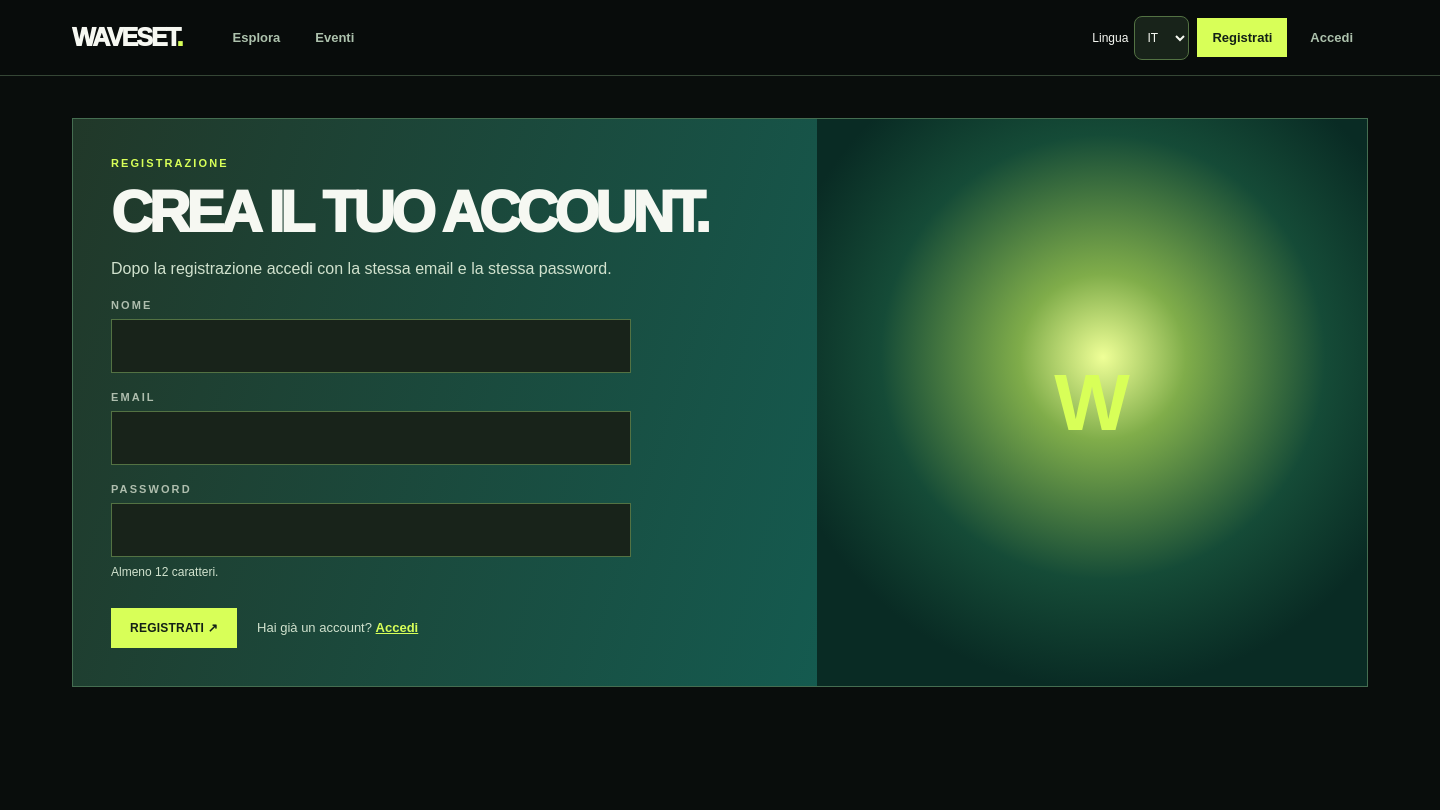
Scenario: schermata di registrazione › 400 con errori per campo: ogni messaggio sotto il proprio campo
Expected: the heading "Crea il tuo account." is shown, [111,184,779,242]
Type "A" into the field labelled "Nome" at (371, 346), box [133,320,609,372]
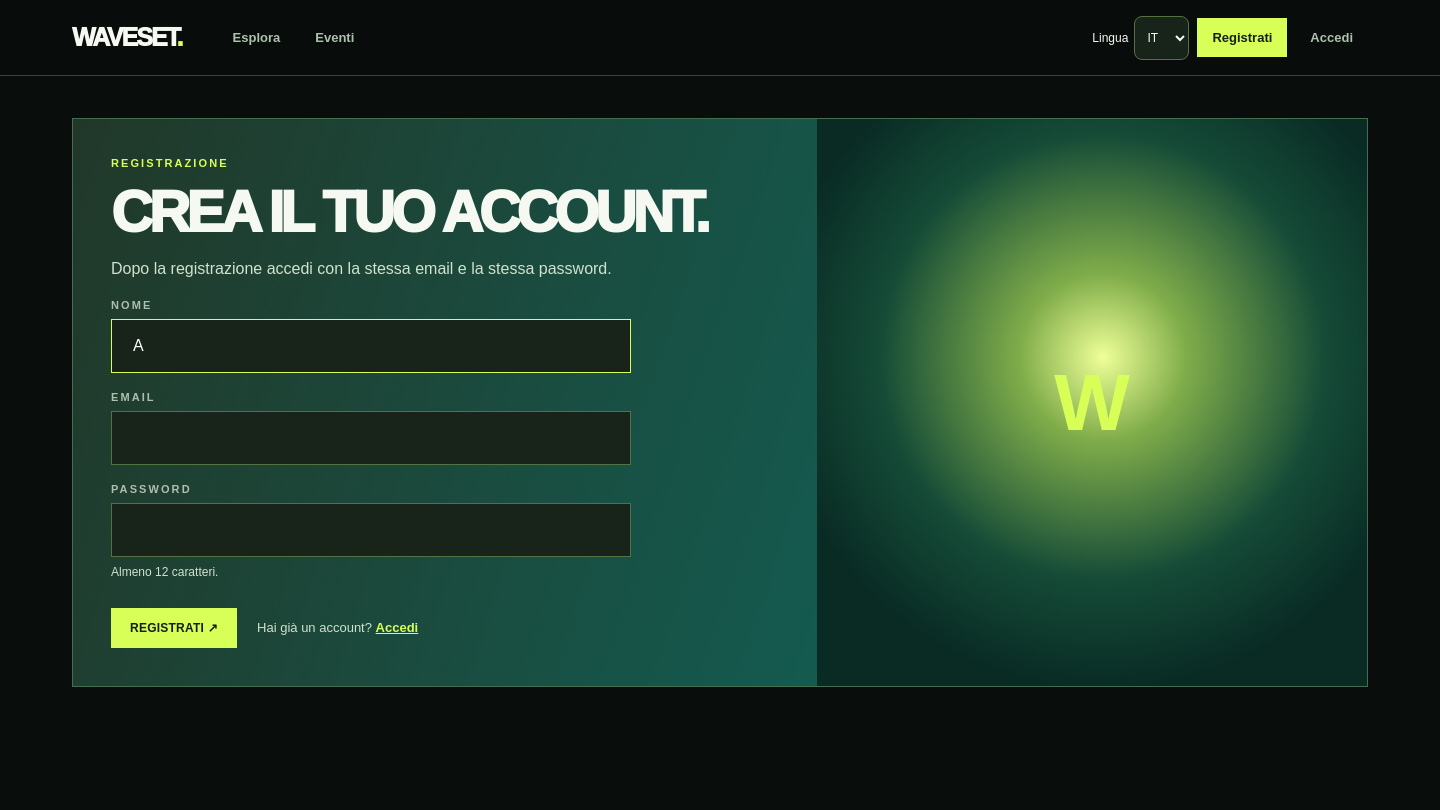
Type "x" into the field labelled "Email" at (371, 438), box [133,412,609,464]
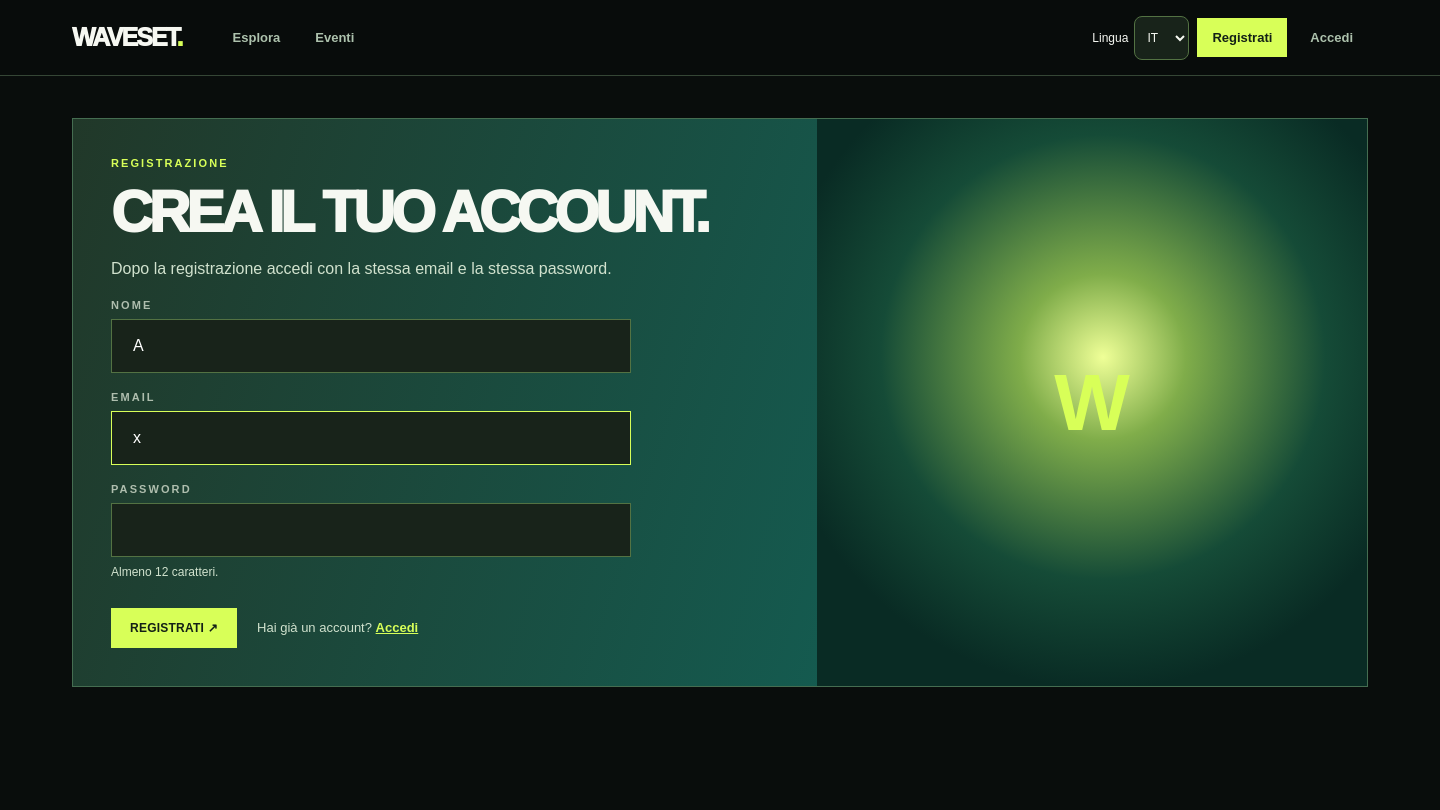
Type "corta" into the password field labelled "Password" at (371, 530), box [133,504,609,556]
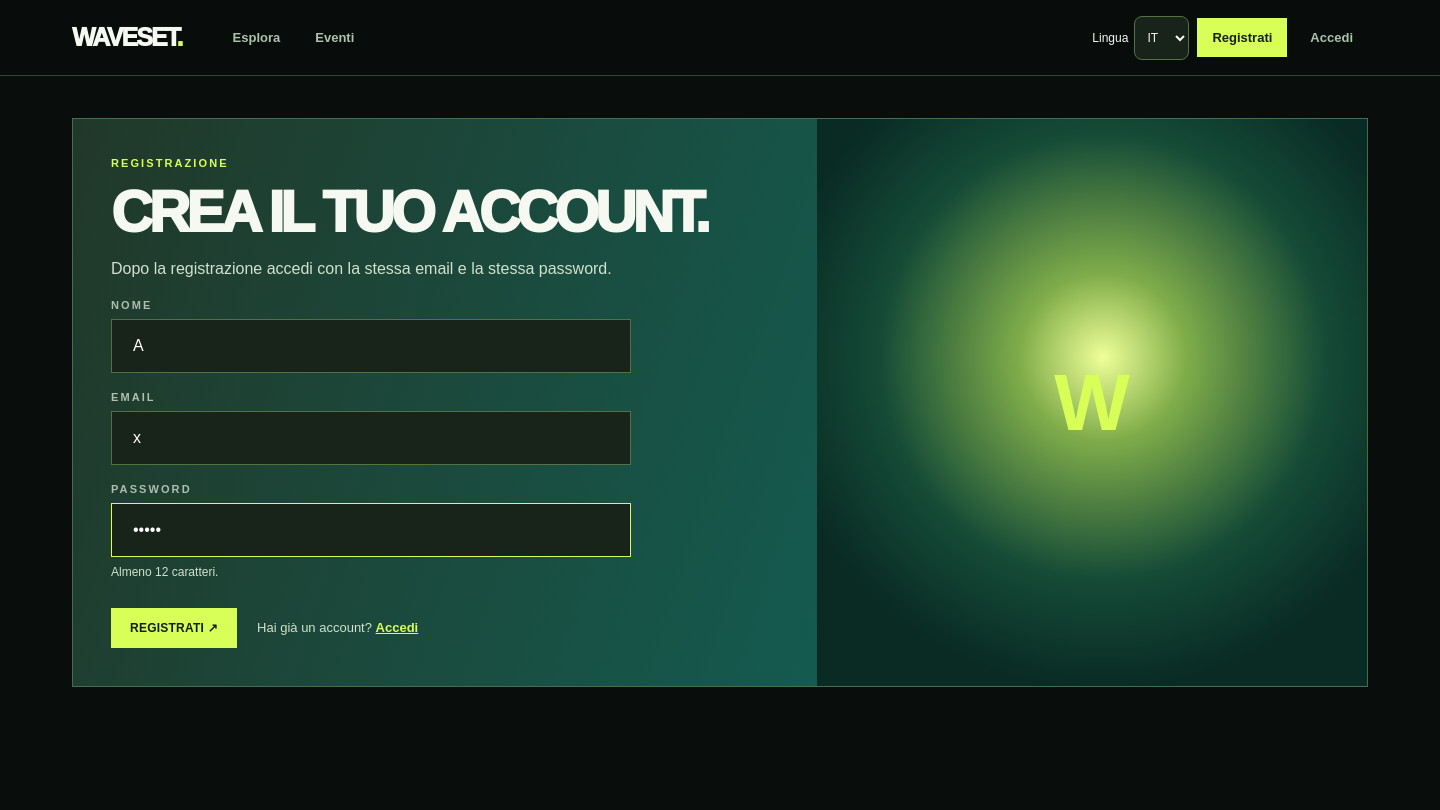
Click the button "Registrati ↗" at (174, 628), box [111,608,237,648]
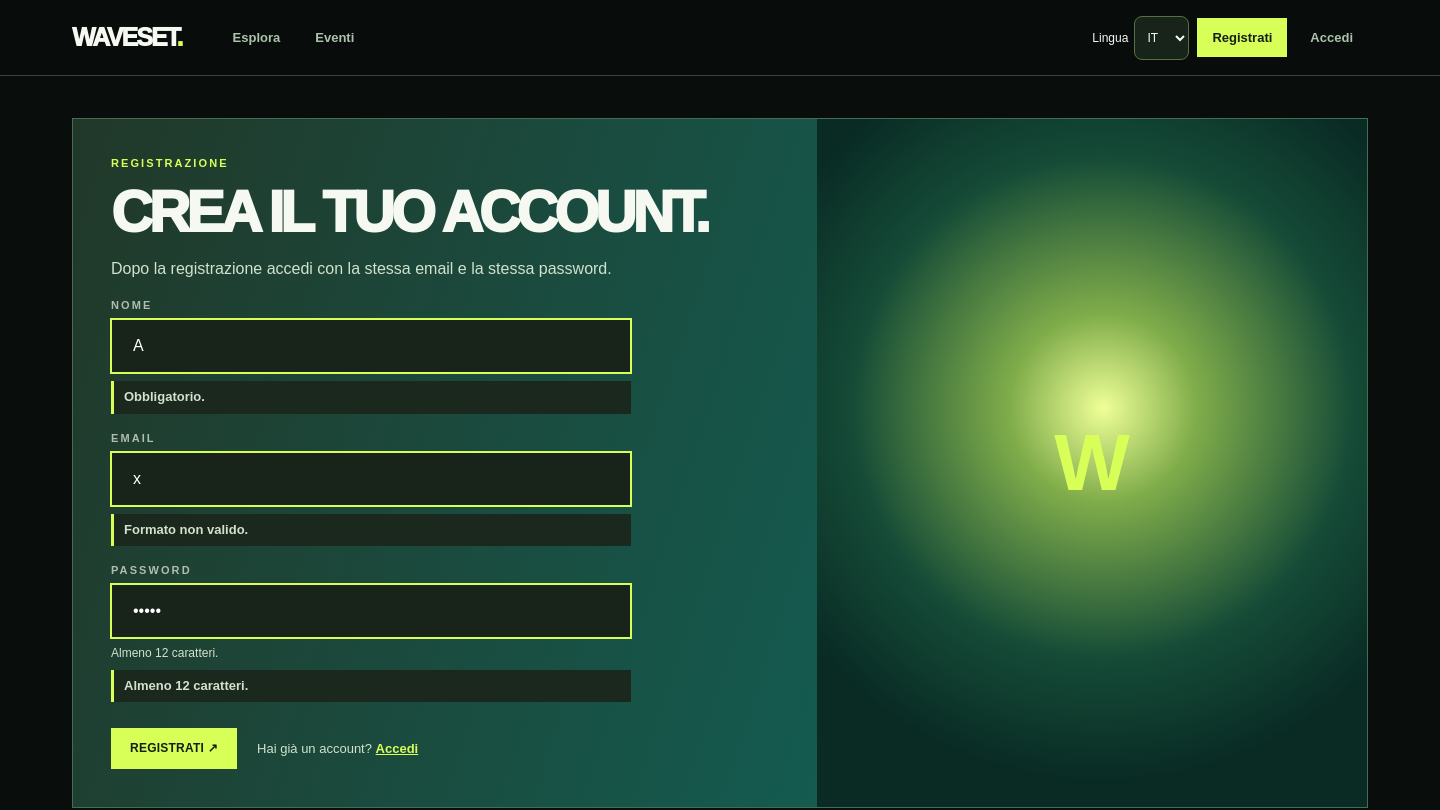
Expected: the text "Almeno 12 caratteri." is shown 2 times, [111,646,218,660]; [111,670,631,702]
Result: the text "Formato non valido." is shown at [111,514,631,546]
Result: the text "Obbligatorio." is shown at [111,381,631,414]
